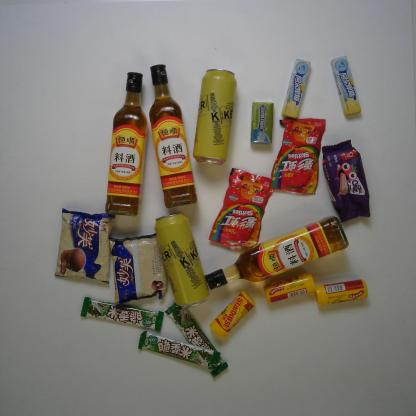Alcohol: (155, 211, 210, 309), (193, 68, 236, 166)
Candy: (208, 168, 274, 249), (269, 118, 326, 194), (209, 289, 256, 339), (329, 54, 362, 117), (281, 58, 311, 119), (262, 274, 316, 305), (314, 278, 367, 309)
Chocolate: (166, 303, 228, 378), (138, 330, 221, 370), (79, 296, 166, 333)
Dessert: (53, 208, 117, 284), (109, 233, 170, 307), (320, 140, 370, 221)
Gum: (249, 101, 275, 144)
Seasoner: (206, 215, 349, 292), (148, 64, 199, 208), (106, 73, 150, 217)
